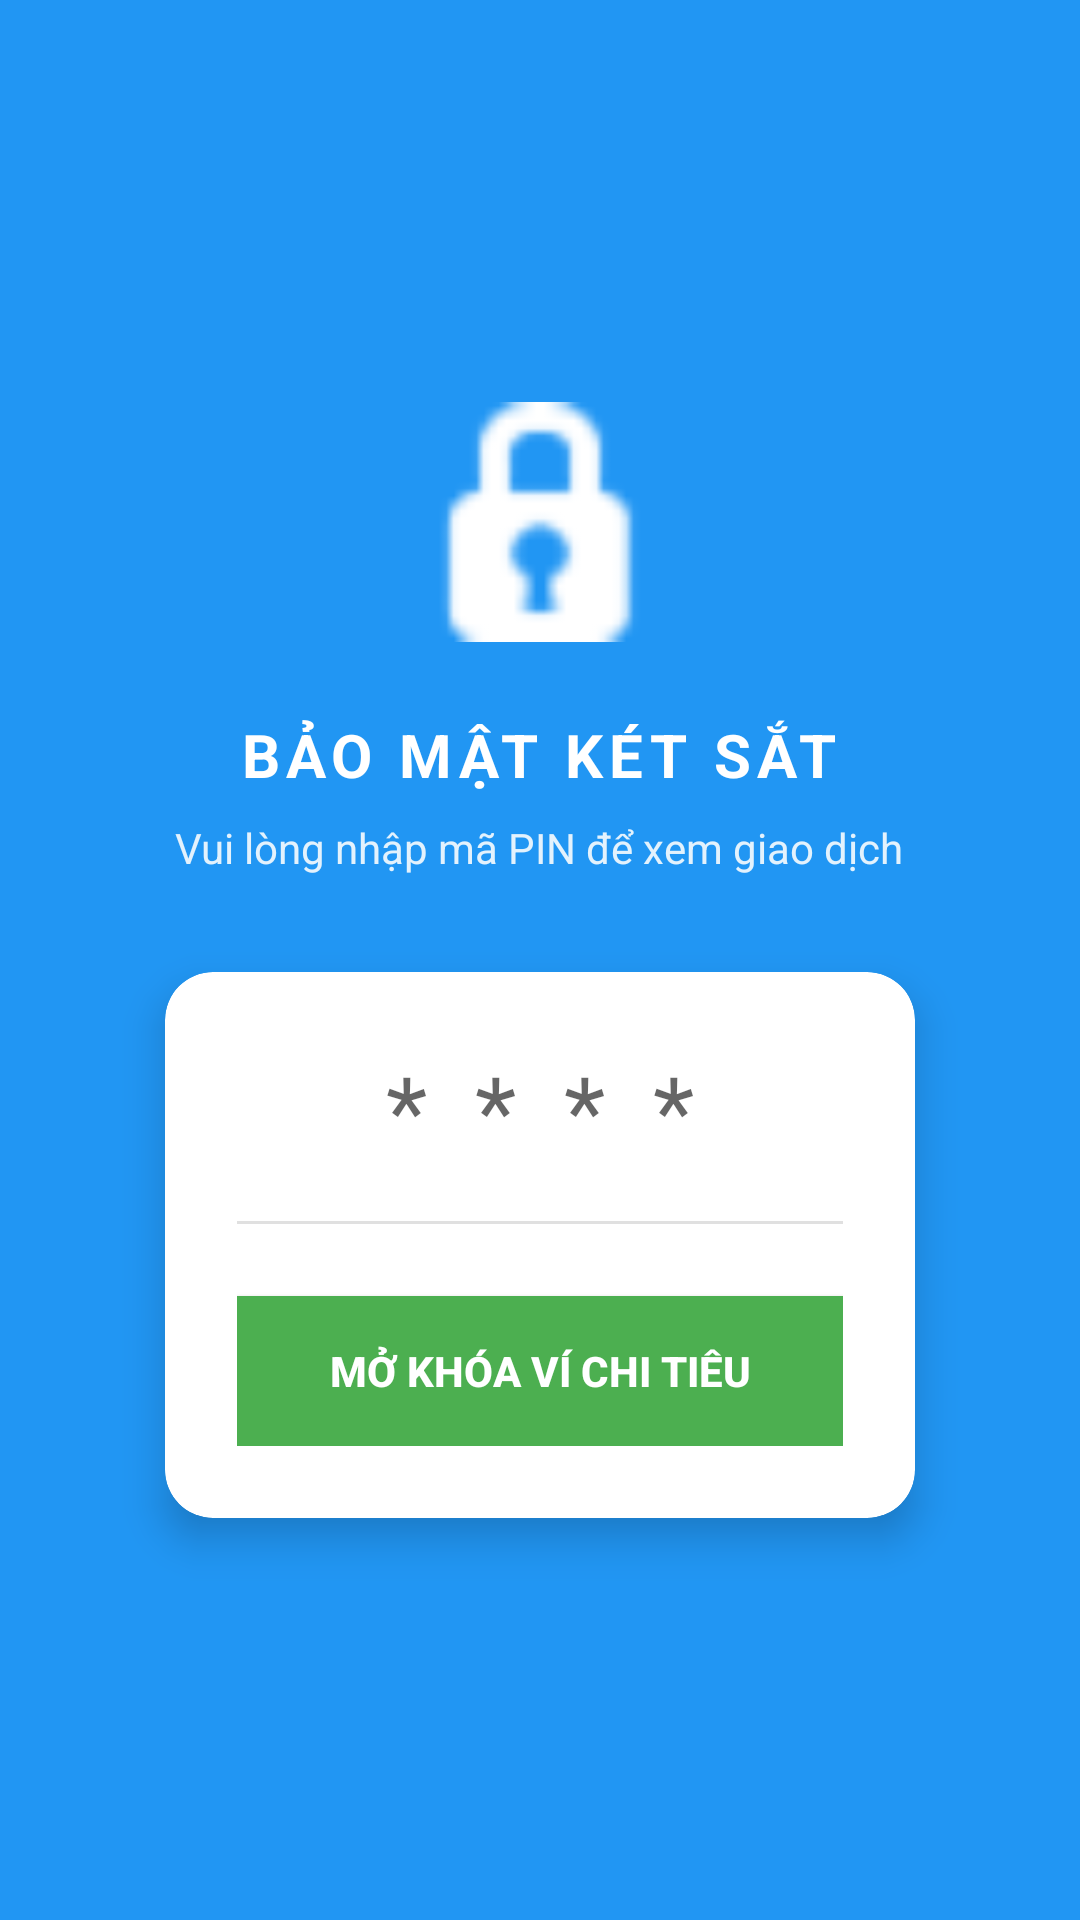

Icon click points for this 1080px x 1920px phone screenshot, format (x=x, y=y):
secure: (x=538, y=522)
